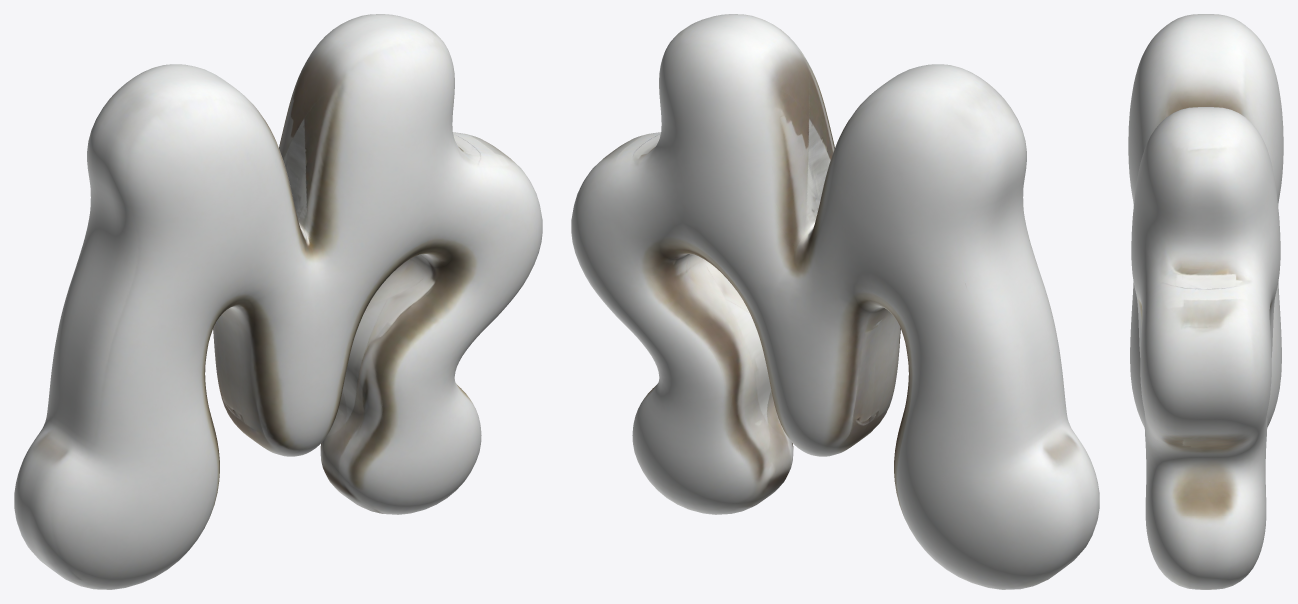
Rendered from Flow_M_0110005850_texture.glb.
The picture shows the model from 3 angles, left to right: view 1: azimuth 30°, elevation 25°; view 2: azimuth 150°, elevation 25°; view 3: azimuth 270°, elevation 25°; orthographic projection. The views are drawn at different scales.
Size of the model in its own units: 2 by 1.88 by 0.5754.
Materials: 1 (1 with a texture image).
